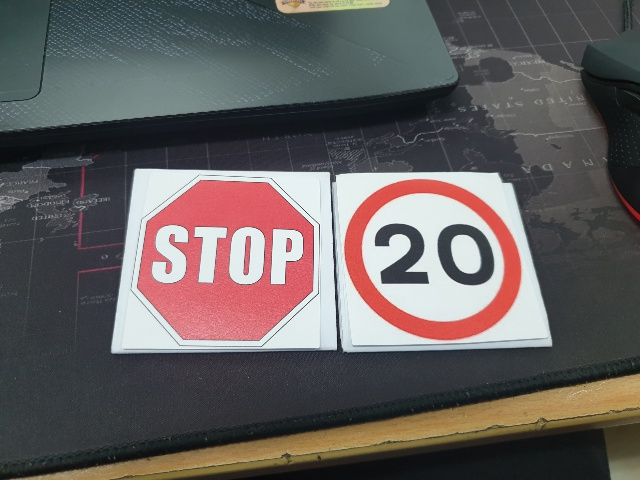Limit 20: (347, 180, 526, 342)
Stop: (133, 176, 325, 348)
